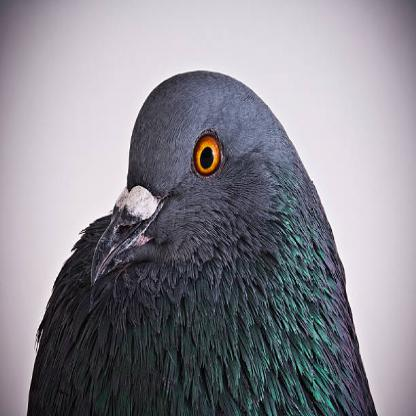Rock Pigeon: (31, 67, 381, 416)
